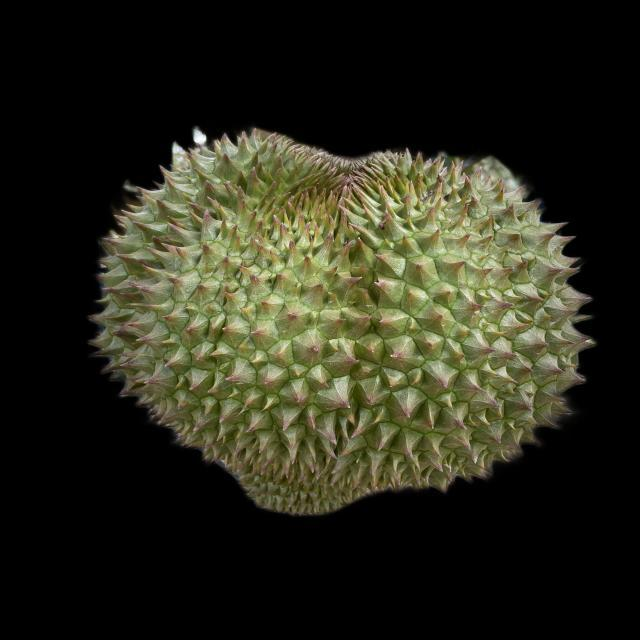immature: (94, 127, 599, 517)
